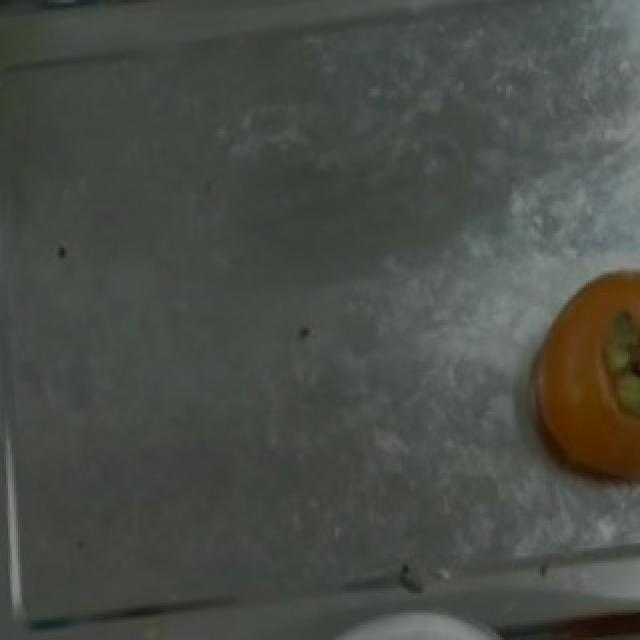Fruit: (504, 275, 640, 506)
